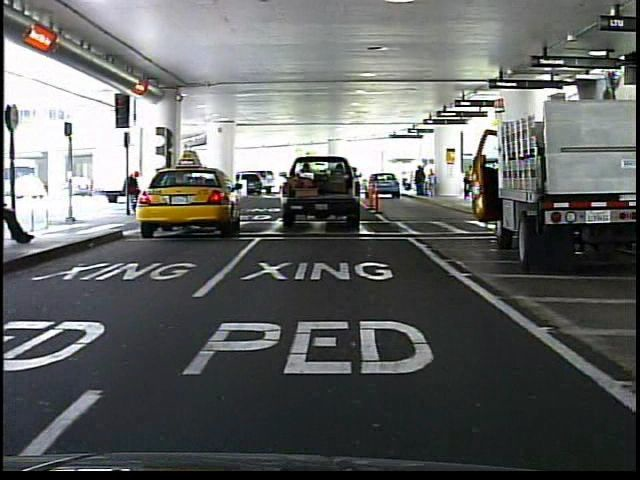person: (125, 165, 148, 221)
